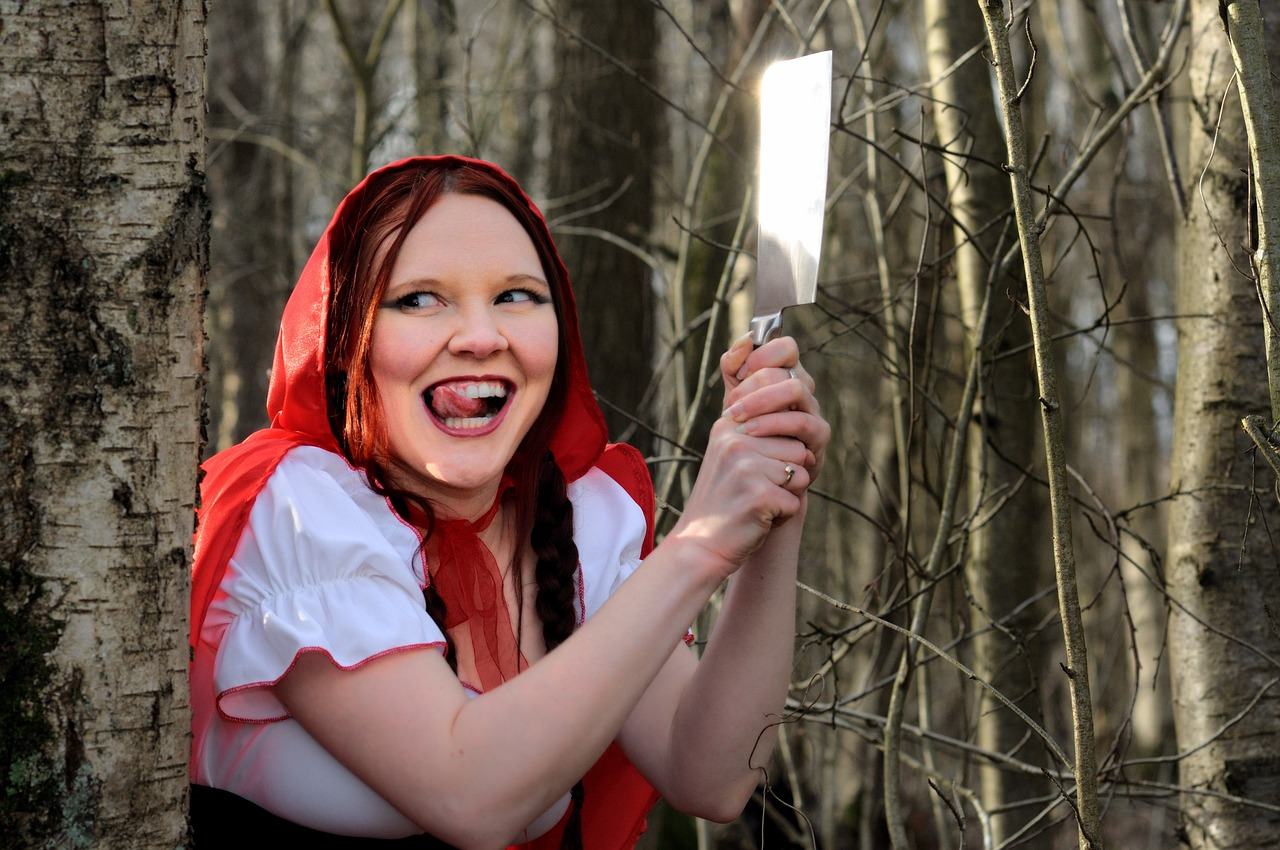knife: (731, 45, 843, 463)
